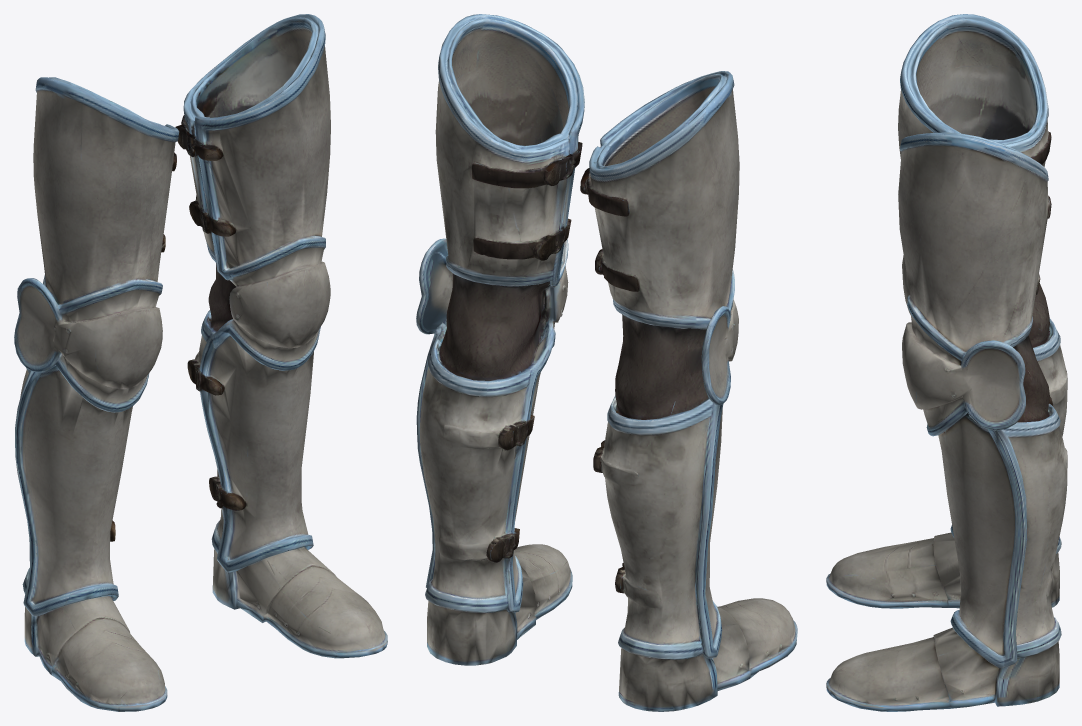
File: gambali_prima_veglia.glb
3 views of the same model, side by side, from view 1: azimuth 30°, elevation 25°; view 2: azimuth 150°, elevation 25°; view 3: azimuth 270°, elevation 25° (orthographic). The views are drawn at different scales.
Visible parts, largest first — view 1: Mesh_0; view 2: Mesh_0; view 3: Mesh_0.
Part boxes in pixels (left/top/right/bottom): Mesh_0: left=14, top=14, right=387, bottom=711; Mesh_0: left=416, top=14, right=797, bottom=711; Mesh_0: left=826, top=14, right=1067, bottom=711.
Size of the model in its own units: 1.01 by 1.9 by 0.7324.
Materials: 1 (1 with a texture image).
